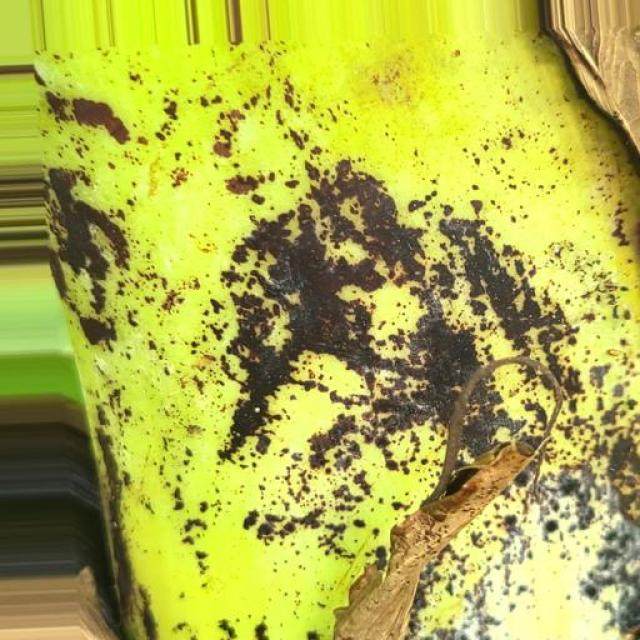Anthracnose: (22, 3, 640, 640)
